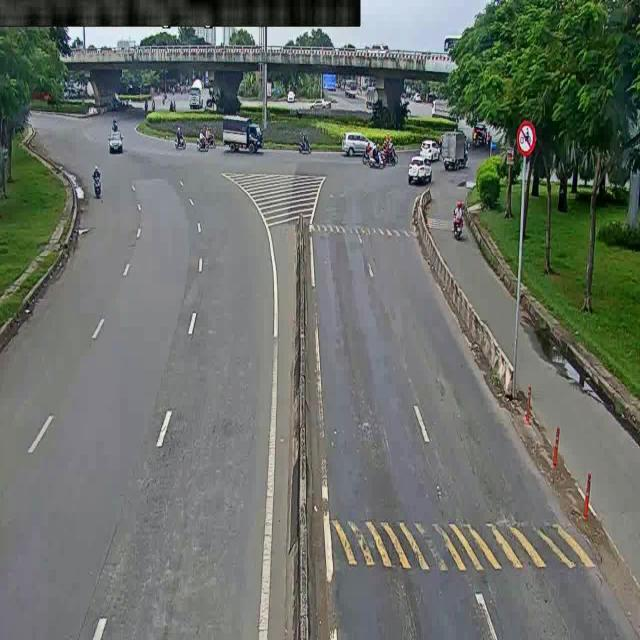car: (403, 153, 435, 187), (340, 130, 378, 158), (415, 134, 441, 157)
motorbike: (446, 199, 471, 235), (297, 134, 315, 162), (88, 166, 101, 202), (173, 124, 187, 152), (369, 150, 392, 165), (362, 145, 378, 165), (194, 132, 208, 153), (200, 129, 214, 145), (381, 140, 394, 157), (107, 119, 122, 133)
person: (485, 132, 514, 214)
truck: (214, 119, 271, 158), (441, 127, 472, 171), (182, 80, 207, 116)
